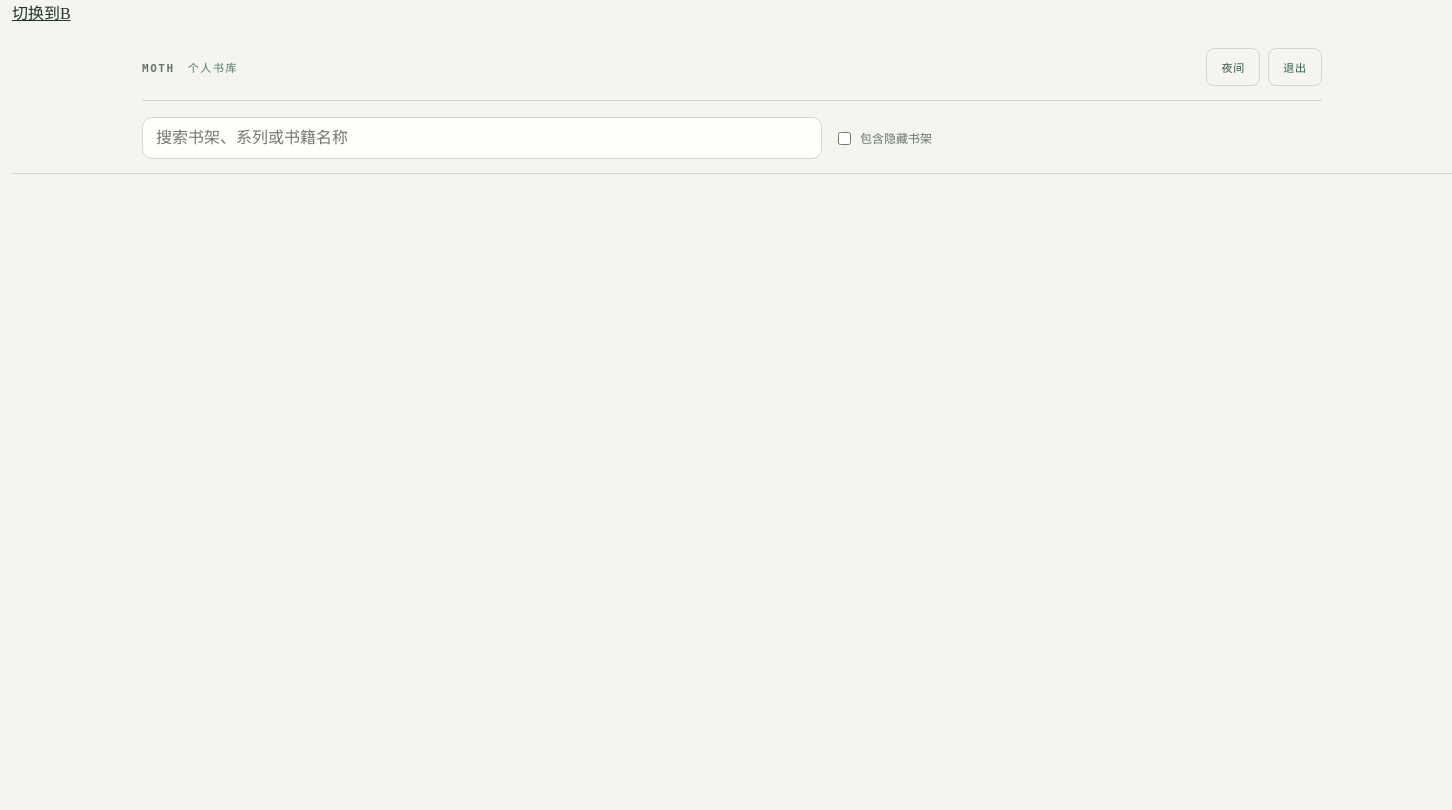
Scenario: library navigation › aborts the previous directory and ignores its late response
Step 1. Click the link "切换到B" → (41, 14), box [12, 5, 71, 22]
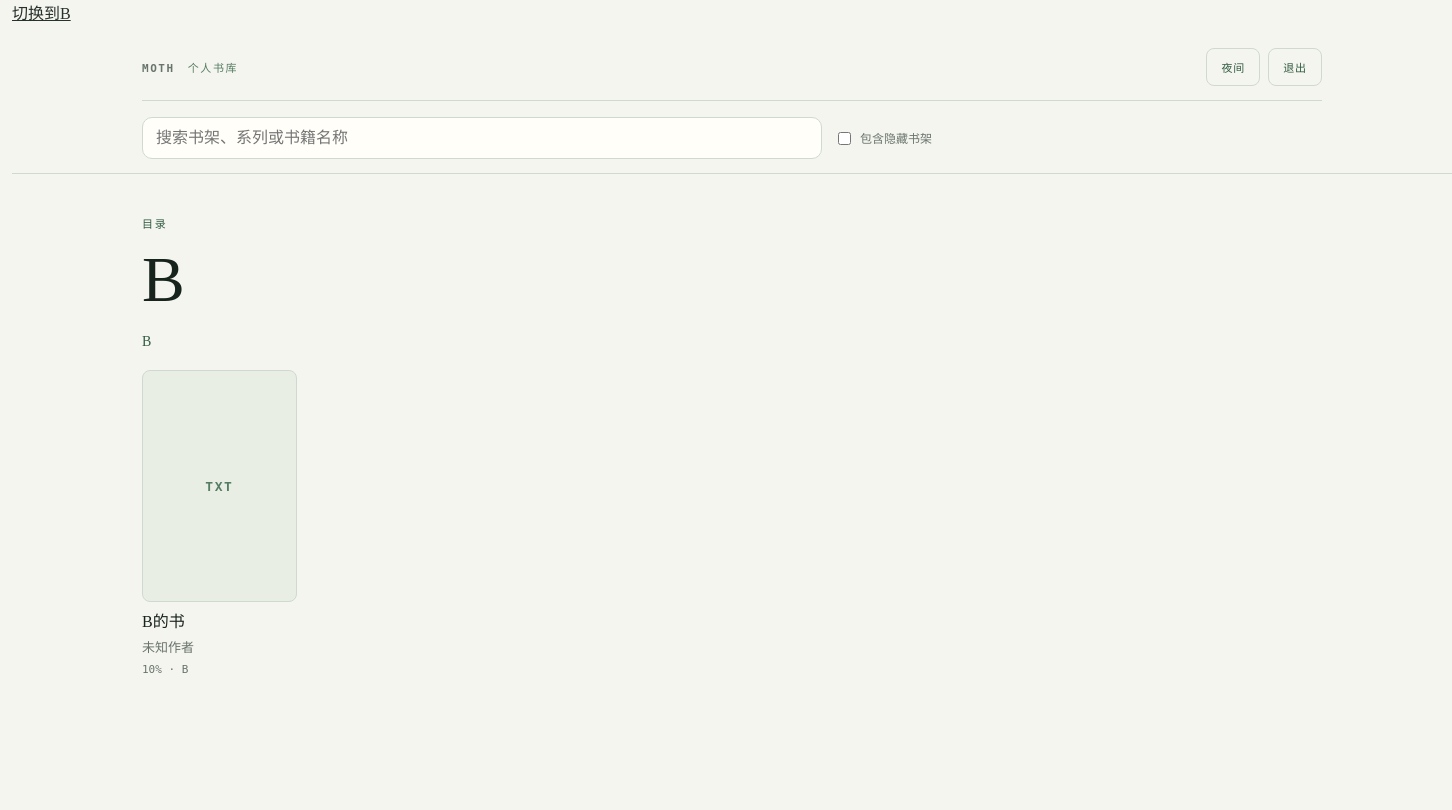
Now the link "TXT B的书 未知作者 10% · B" is shown, box [142, 370, 297, 676]
